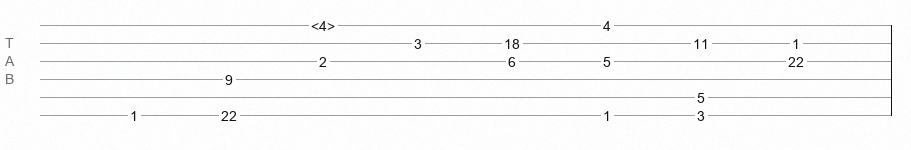1: (130, 108, 138, 118), (603, 108, 611, 118), (792, 36, 800, 46)
11: (693, 36, 709, 46)
18: (504, 36, 520, 46)
2: (319, 54, 327, 64)
22: (221, 108, 237, 118), (788, 54, 804, 64)
3: (414, 36, 422, 46), (697, 108, 705, 118)
4: (603, 18, 611, 28)
5: (603, 54, 611, 64), (697, 90, 705, 100)
6: (508, 54, 516, 64)
9: (225, 72, 233, 82)
harmonic: (311, 18, 335, 28)
